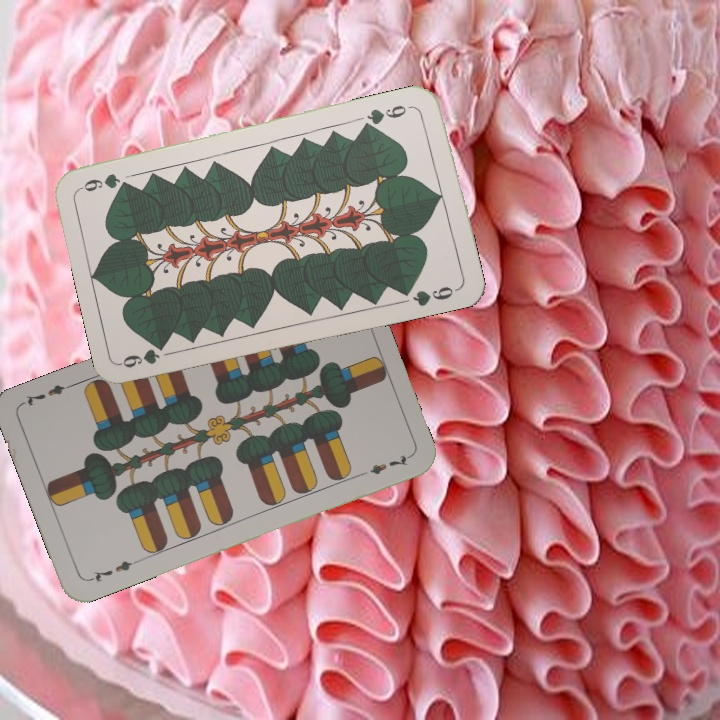E7: (84, 556, 141, 585)
G9: (359, 101, 418, 130), (118, 340, 169, 371)
